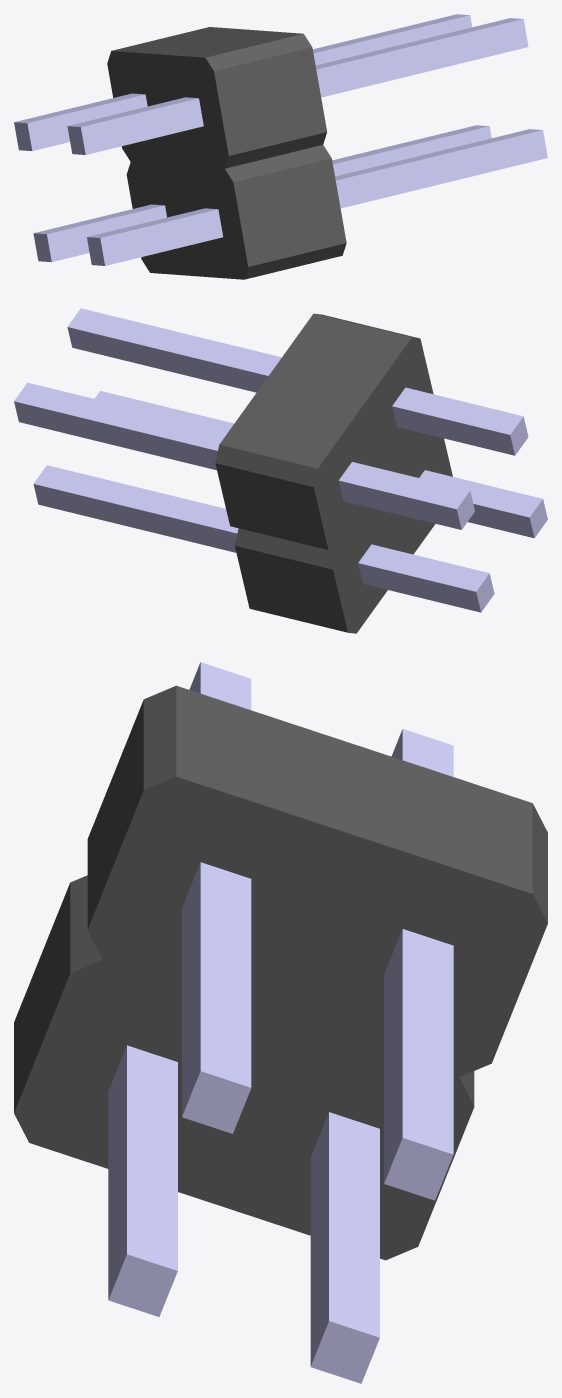
The model's file is EBoxNewAsm_stp_1_IMC413_1_stp_1_IMC413_1_26_stp_1_solid1.obj.
The picture shows the model from 3 angles, top to bottom: view 1: azimuth 30°, elevation 25°; view 2: azimuth 150°, elevation 25°; view 3: azimuth 270°, elevation 25°; orthographic projection. The views are drawn at different scales.
Parts seen in each view (by area): view 1: mesh10175, mesh10161, mesh10164, mesh10148, mesh10158, mesh10181, mesh10176, mesh10166, mesh10186, mesh10191, mesh10153, mesh10142 (+16 smaller); view 2: mesh10175, mesh10166, mesh10168, mesh10171, mesh10151, mesh10146, mesh10141, mesh10144, mesh10155, mesh10150, mesh10185, mesh10195 (+12 smaller); view 3: mesh10145, mesh10166, mesh10146, mesh10151, mesh10141, mesh10156, mesh10161, mesh10164, mesh10158, mesh10142, mesh10148, mesh10153 (+9 smaller).
Boxes of the visible parts, box(x1,y1,x2,y2) form: mesh10175: box(107, 51, 248, 279); mesh10161: box(233, 158, 346, 266); mesh10164: box(214, 47, 326, 155); mesh10148: box(316, 19, 528, 97); mesh10158: box(336, 130, 547, 208); mesh10181: box(81, 98, 203, 154); mesh10176: box(100, 209, 223, 265); mesh10166: box(112, 27, 302, 57); mesh10186: box(27, 94, 147, 150); mesh10191: box(47, 205, 166, 261); mesh10153: box(313, 15, 472, 65); mesh10142: box(333, 126, 491, 176); mesh10175: box(313, 337, 452, 633); mesh10166: box(219, 313, 411, 468); mesh10168: box(215, 463, 328, 549); mesh10171: box(235, 546, 347, 632); mesh10151: box(14, 382, 228, 450); mesh10146: box(67, 308, 281, 375); mesh10141: box(33, 465, 238, 533); mesh10144: box(33, 484, 237, 552); mesh10155: box(14, 401, 217, 470); mesh10150: box(67, 327, 268, 392); mesh10185: box(392, 387, 523, 434); mesh10195: box(358, 544, 489, 591); mesh10145: box(14, 776, 547, 1260); mesh10166: box(176, 685, 532, 893); mesh10146: box(200, 862, 251, 1087); mesh10151: box(402, 929, 453, 1154); mesh10141: box(329, 1112, 379, 1337); mesh10156: box(127, 1045, 177, 1270); mesh10161: box(14, 883, 70, 1112); mesh10164: box(87, 700, 143, 929); mesh10158: box(108, 1046, 126, 1299); mesh10142: box(310, 1113, 328, 1365); mesh10148: box(182, 862, 200, 1116); mesh10153: box(384, 929, 402, 1183).
Bounding box in the file's own units: 0.0114 × 0.00631 × 0.00631.
